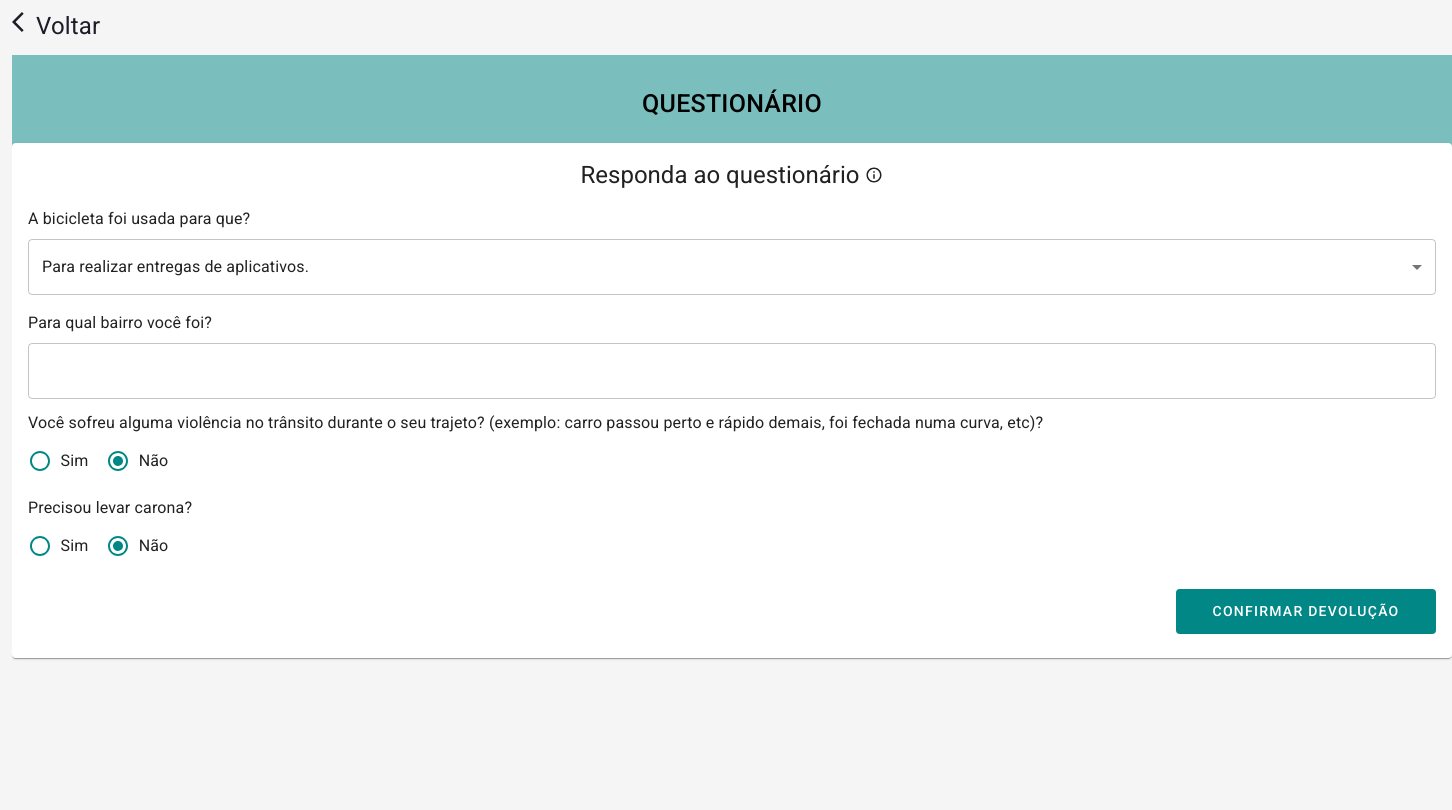
Test: ReturnBikeStepOne › when has state params › should allow submit form only with all fields filled
Click the button with test id "submit-button": (1306, 611) [1176,589,1436,634]
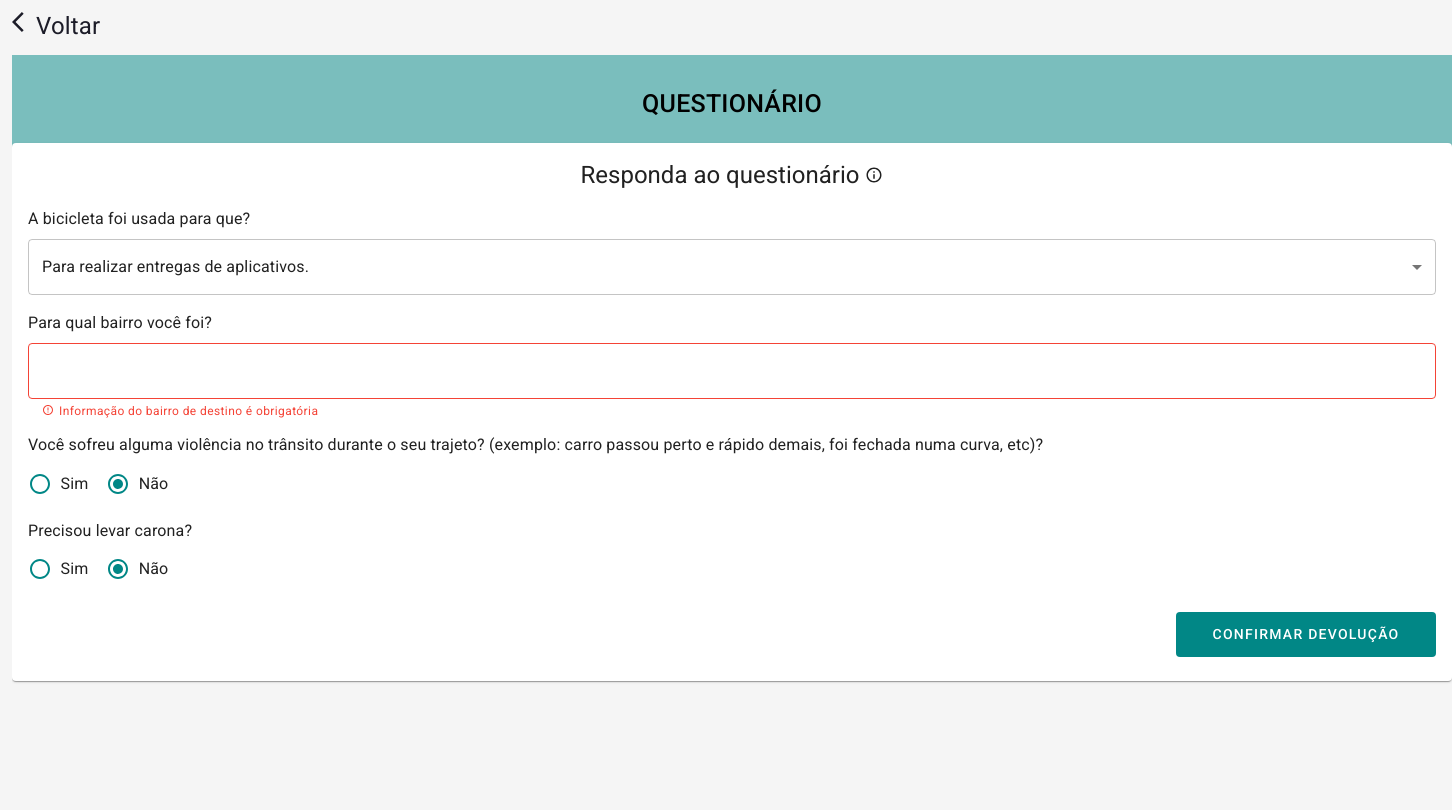
Expected: the element showing "Informação do bairro de destino é obrigatória" is shown, [42,404,318,418]
